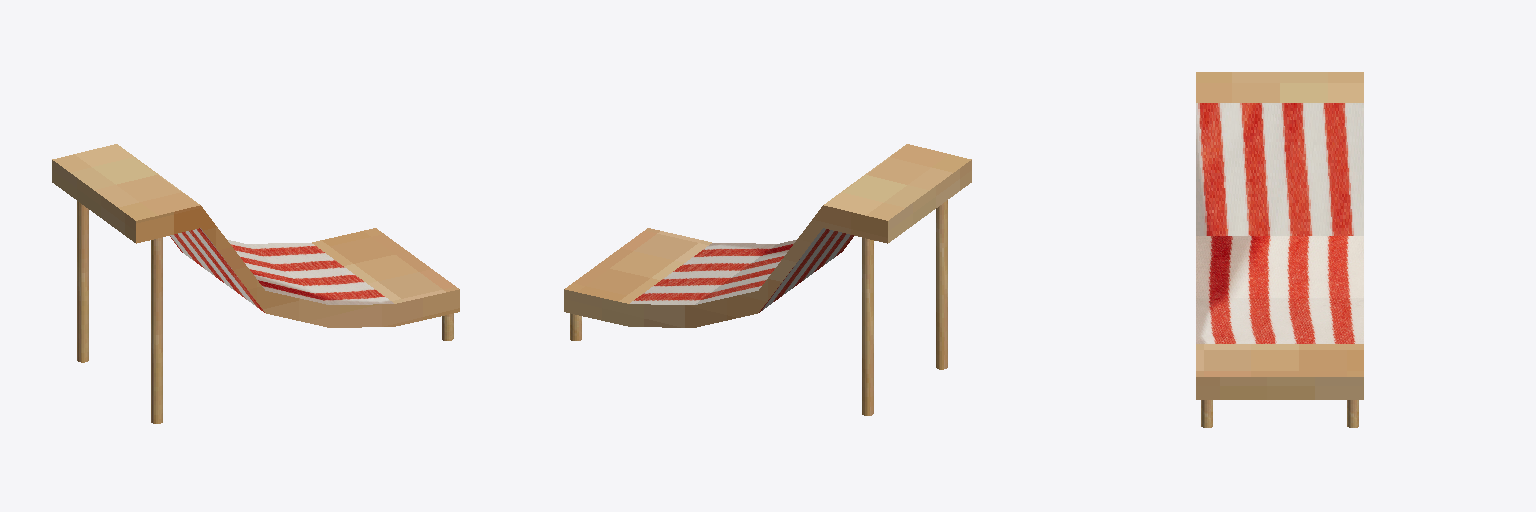
The picture shows the model from 3 angles: view 1: azimuth 30°, elevation 25°; view 2: azimuth 150°, elevation 25°; view 3: azimuth 270°, elevation 25°; orthographic projection.
Parts seen in each view (by area): view 1: SillaPlaya; view 2: SillaPlaya; view 3: SillaPlaya.
Part boxes in pixels (left/top/right/bottom): SillaPlaya: left=52, top=144, right=459, bottom=423; SillaPlaya: left=564, top=144, right=971, bottom=415; SillaPlaya: left=1196, top=72, right=1363, bottom=427.
Size of the model in its own units: 14.88 by 9.24 by 6.68.
Materials: 1 (1 with a texture image).